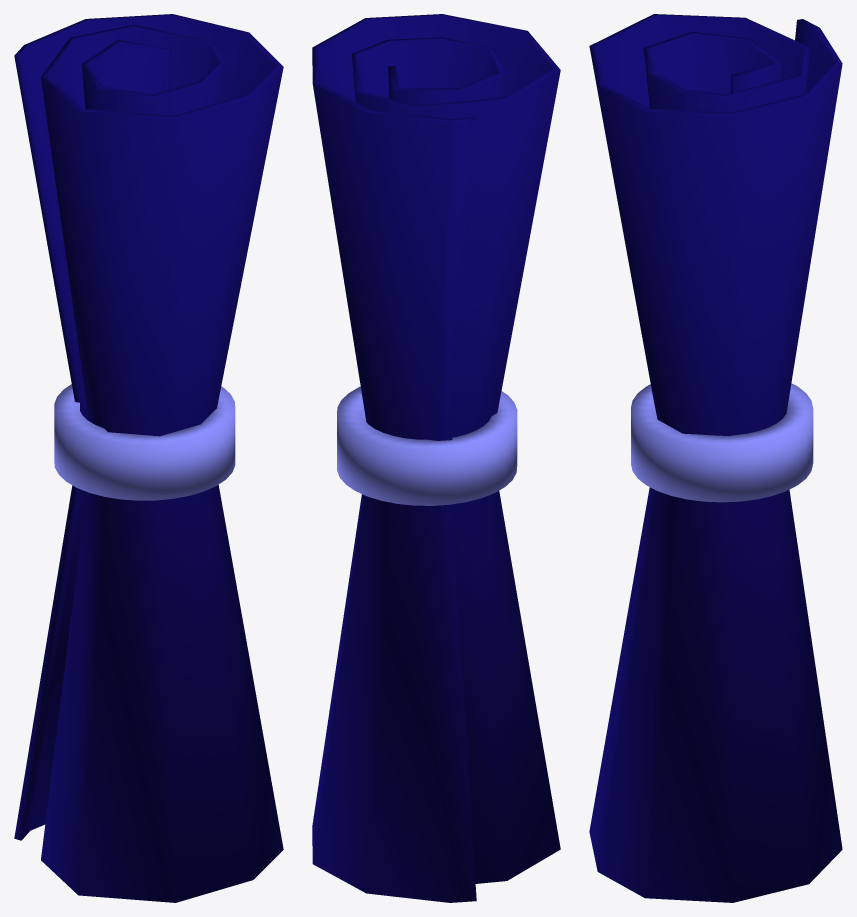
File: blueprint.fbx
The picture shows the model from 3 angles, left to right: view 1: azimuth 30°, elevation 25°; view 2: azimuth 150°, elevation 25°; view 3: azimuth 270°, elevation 25°; orthographic projection.
Parts seen in each view (by area): view 1: Cylinder.001; view 2: Cylinder.001; view 3: Cylinder.001.
Boxes of the visible parts, <box> form: Cylinder.001: <box>14,14,283,902</box>; Cylinder.001: <box>312,14,560,902</box>; Cylinder.001: <box>589,14,842,902</box>.
Bounding box in the file's own units: 187 × 195 × 668.
